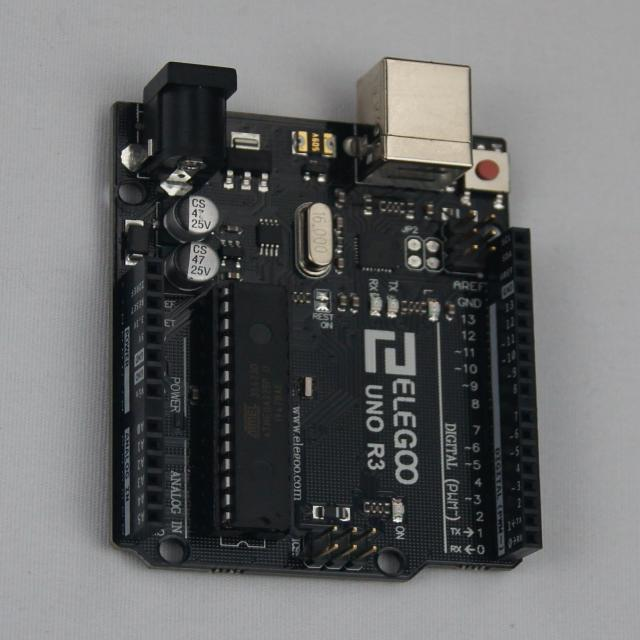Arduino Uno -Black-: (114, 59, 540, 580)
